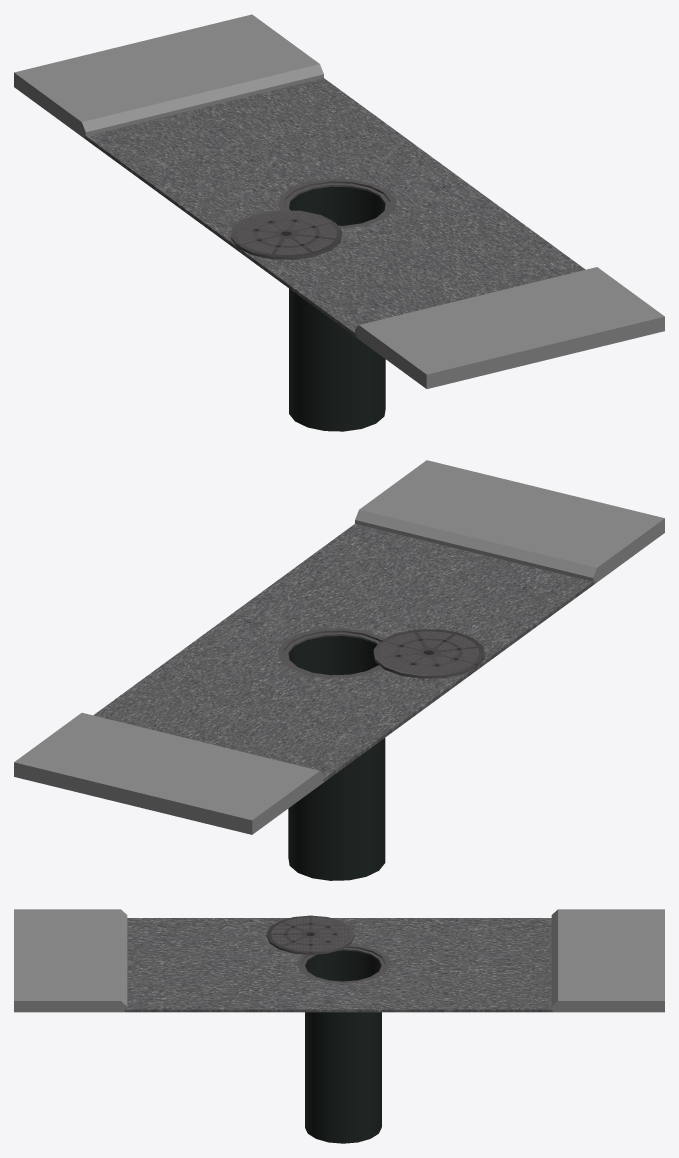
File: obj_manhole_open_final.fbx
3 views of the same model, one above another, from view 1: azimuth 30°, elevation 25°; view 2: azimuth 150°, elevation 25°; view 3: azimuth 270°, elevation 25° (orthographic). The views are drawn at different scales.
Visible parts, largest first — view 1: obj_manhole_open_road_final; view 2: obj_manhole_open_road_final; view 3: obj_manhole_open_road_final.
Part boxes in pixels (x1,y1,x2,y2): obj_manhole_open_road_final: [14, 14, 664, 431]; obj_manhole_open_road_final: [14, 460, 664, 880]; obj_manhole_open_road_final: [14, 909, 664, 1143].
Size of the model in its own units: 4.73 by 4.13 by 14.15.
Materials: 1 (1 with a texture image).
